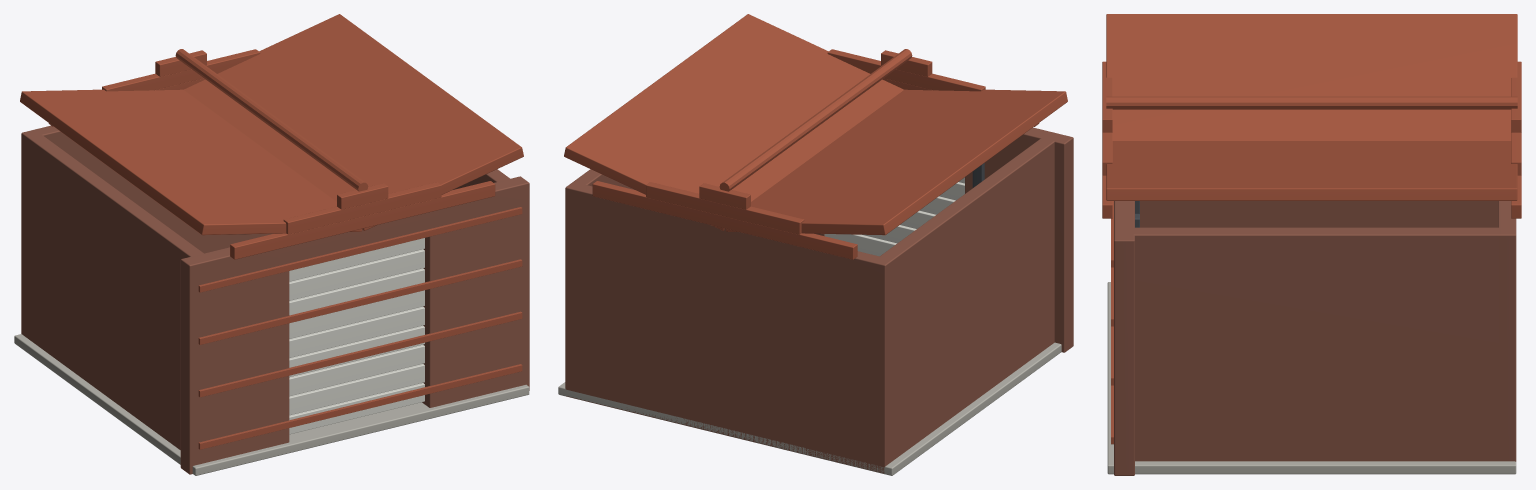
The model's file is garage_brick.glb.
3 views of the same model, side by side, from view 1: azimuth 30°, elevation 25°; view 2: azimuth 150°, elevation 25°; view 3: azimuth 270°, elevation 25° (orthographic). The views are drawn at different scales.
Parts seen in each view (by area): view 1: Garage side wall, Garage roof slope.001, Garage roof slope, Brick pier, Tint.010, Brick pier.001, Garage slab, Garage back wall, Roof gable.003, Roof ridge cap, Brick lintel, Brick course (+7 smaller); view 2: Garage back wall, Garage side wall, Garage roof slope.001, Garage roof slope, Brick pier, Garage slab, Roof gable, Roof ridge cap, Roof gable.001, Tint.010, Roof gable.004, Roof gable.002 (+1 smaller); view 3: Garage side wall.001, Garage roof slope, Garage roof slope.001, Garage side wall, Garage slab, Brick pier.001, Roof ridge cap, Garage back wall, Roof gable.001, Roof gable.004.
Boxes of the visible parts, x1,y1,x2,y2 form: Garage side wall: (28,135,210,449); Garage roof slope.001: (184,14,523,230); Garage roof slope: (20,89,362,235); Brick pier: (180,247,289,474); Tint.010: (289,238,424,434); Brick pier.001: (422,176,529,407); Garage slab: (14,334,529,475); Garage back wall: (21,125,271,338); Roof gable.003: (230,181,495,259); Roof ridge cap: (175,49,368,191); Brick lintel: (271,210,438,265); Brick course: (198,364,522,449); Garage back wall: (565,184,892,473); Garage side wall: (877,138,1054,460); Garage roof slope.001: (564,14,903,230); Garage roof slope: (725,89,1067,235); Brick pier: (965,127,1073,352); Garage slab: (558,342,1061,475); Roof gable: (592,181,857,259); Roof ridge cap: (719,49,912,191); Roof gable.001: (646,182,804,234); Tint.010: (824,177,964,256); Roof gable.004: (827,49,985,91); Roof gable.002: (699,183,750,209); Garage side wall.001: (1118,227,1505,461); Garage roof slope: (1106,14,1517,140); Garage roof slope.001: (1106,141,1517,200); Garage side wall: (1140,201,1498,227); Garage slab: (1107,282,1516,474); Brick pier.001: (1114,201,1134,475); Roof ridge cap: (1106,96,1517,109); Garage back wall: (1498,201,1516,461); Roof gable.001: (1511,77,1521,175); Roof gable.004: (1102,77,1112,175).
Size of the model in its own units: 3.4 by 2.42 by 3.22.
